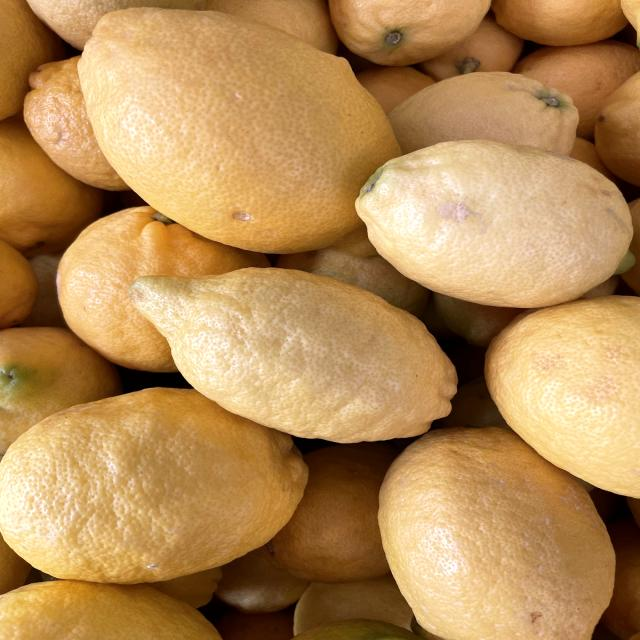lemon: (72, 6, 419, 258), (94, 256, 478, 452), (364, 397, 631, 640), (0, 385, 311, 584), (342, 132, 640, 313)
